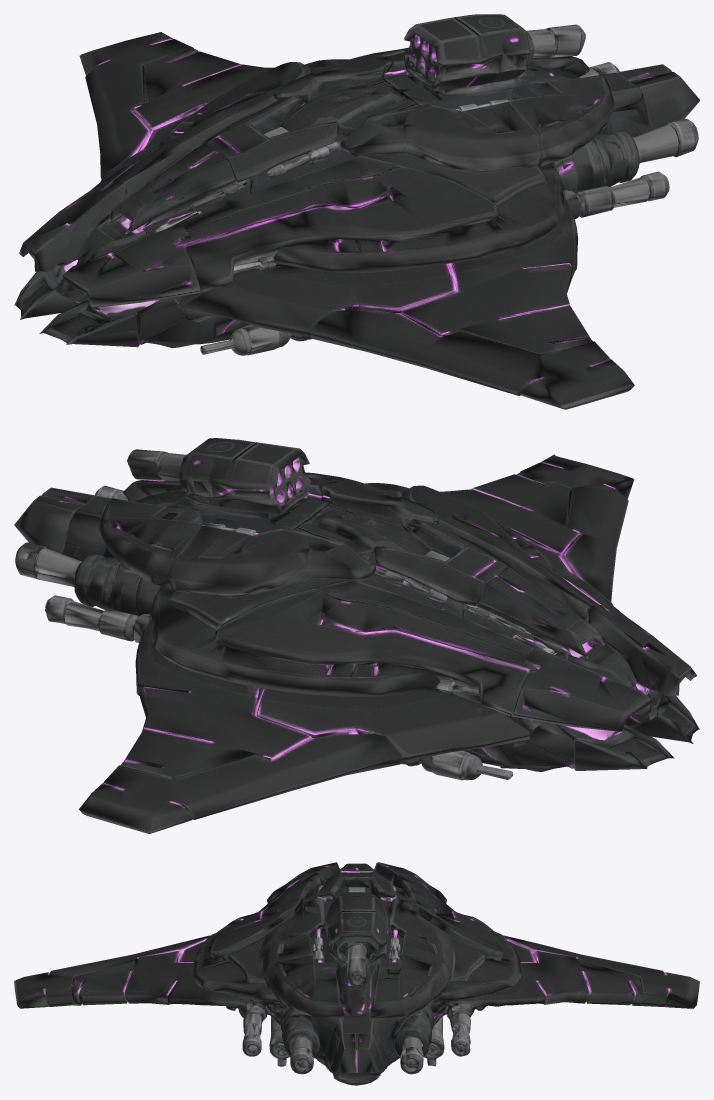
The model's file is spillway_leviathan_hull.glb.
The picture shows the model from 3 angles, top to bottom: view 1: azimuth 30°, elevation 25°; view 2: azimuth 150°, elevation 25°; view 3: azimuth 270°, elevation 25°; orthographic projection. The views are drawn at different scales.
Visible parts, largest first — view 1: spillway_leviathan_hull; view 2: spillway_leviathan_hull; view 3: spillway_leviathan_hull.
Part boxes in pixels (x1,y1,x2,y2): spillway_leviathan_hull: (14, 14, 699, 409); spillway_leviathan_hull: (14, 438, 699, 833); spillway_leviathan_hull: (14, 862, 699, 1085).
Bounding box in the file's own units: 1.85 × 0.6731 × 2.35.
Materials: 1 (1 with a texture image).
